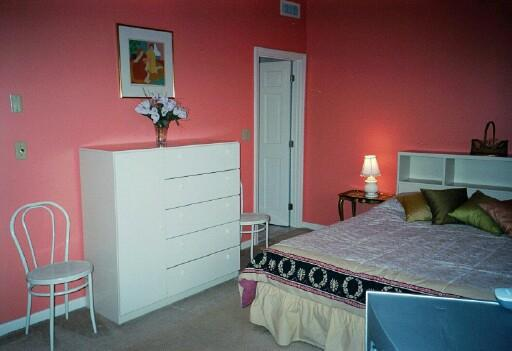Armario: (115, 157, 237, 286)
Cama: (248, 153, 511, 347)
Puerta: (256, 52, 300, 223)
